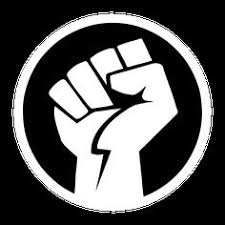fist: (52, 54, 173, 155)
